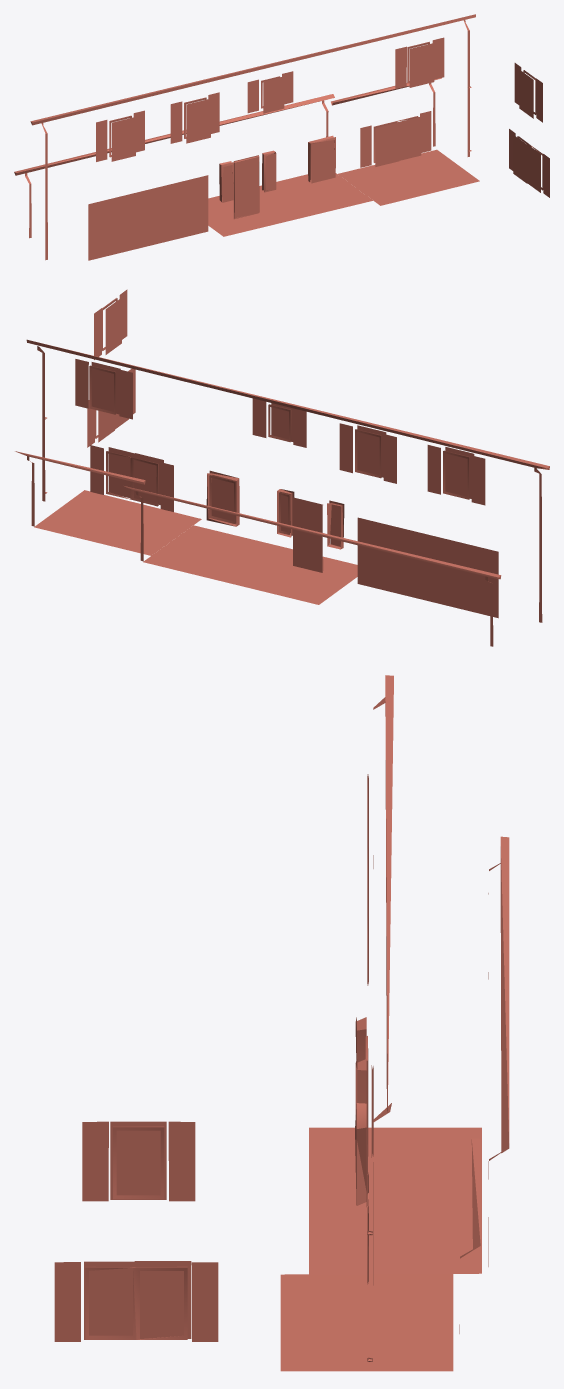
Rendered from HouseD_DETAIL.fbx.
The picture shows the model from 3 angles, top to bottom: view 1: azimuth 30°, elevation 25°; view 2: azimuth 150°, elevation 25°; view 3: azimuth 270°, elevation 25°; orthographic projection. The views are drawn at different scales.
Parts seen in each view (by area): view 1: HouseA_DETAIL_LOD2; view 2: HouseA_DETAIL_LOD2; view 3: HouseA_DETAIL_LOD2.
Boxes of the visible parts, left/top/right/bottom form: HouseA_DETAIL_LOD2: left=14, top=14, right=549, bottom=260; HouseA_DETAIL_LOD2: left=15, top=289, right=549, bottom=646; HouseA_DETAIL_LOD2: left=54, top=675, right=509, bottom=1371.
Size of the model in its own units: 1780 by 559 by 789.
